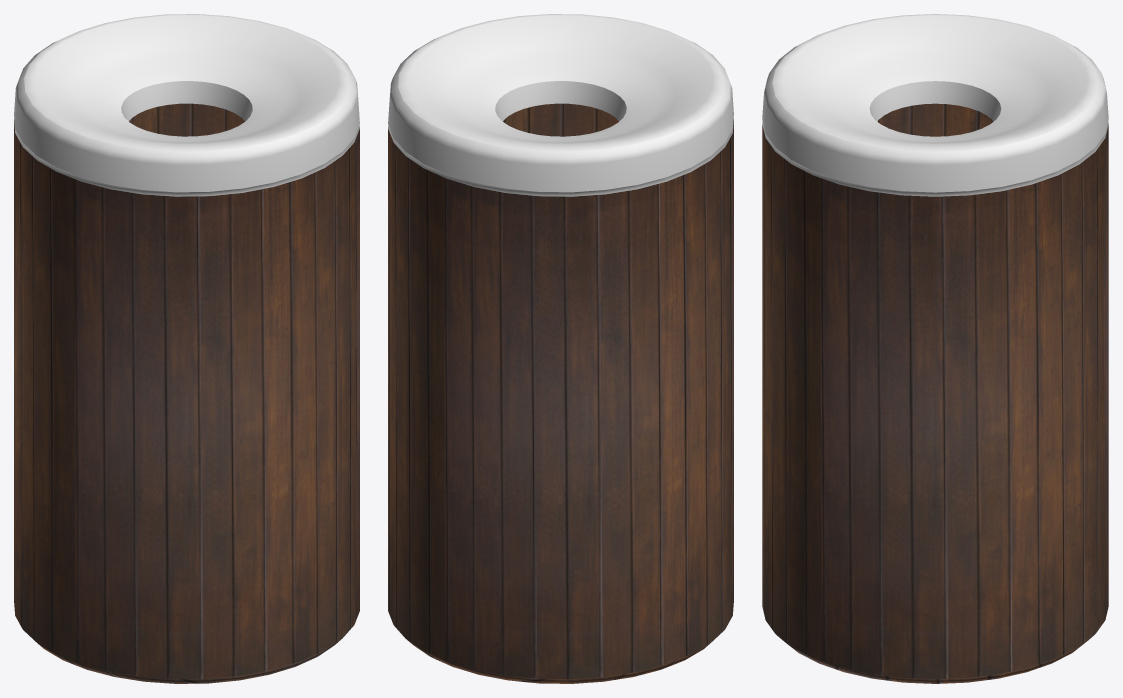
File: bin.fbx
3 renders of one model, left to right at view 1: azimuth 30°, elevation 25°; view 2: azimuth 150°, elevation 25°; view 3: azimuth 270°, elevation 25°, orthographic.
Visible parts, largest first — view 1: bin; view 2: bin; view 3: bin.
Part boxes in pixels (left/top/right/bottom): bin: left=14, top=14, right=359, bottom=683; bin: left=388, top=14, right=733, bottom=683; bin: left=762, top=14, right=1108, bottom=683.
Size of the model in its own units: 176 by 299 by 176.
2 materials, 1 textured.
